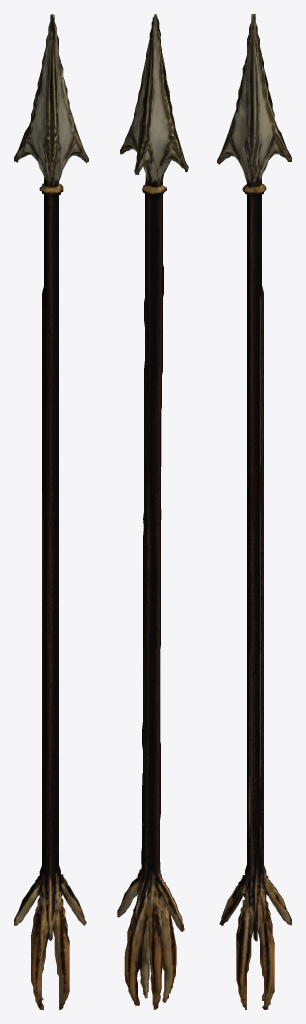
Rendered from ArrowBasic.fbx.
3 renders of one model, left to right at view 1: azimuth 90°, elevation 25°; view 2: azimuth 150°, elevation 25°; view 3: azimuth 270°, elevation 25°, orthographic.
Visible parts, largest first — view 1: meshes[0]; view 2: meshes[0]; view 3: meshes[0].
Boxes of the visible parts, x1,y1,x2,y2 form: meshes[0]: [14, 14, 88, 1009]; meshes[0]: [117, 14, 188, 1009]; meshes[0]: [217, 14, 291, 1009].
Bounding box in the file's own units: 0.0723 × 0.998 × 0.0684.
